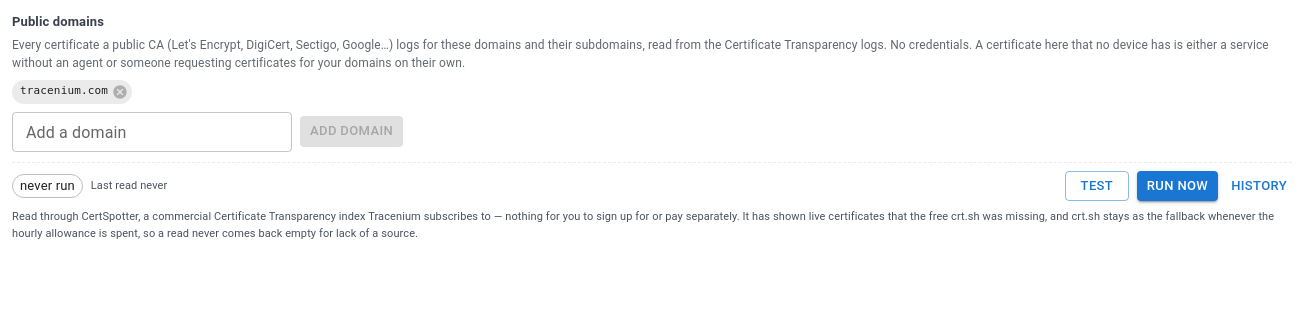
Scenario: CdpPublicDomains › «Test» pregunta a crt.sh sin importar nada, y un fallo se lee
What coordinates should you click on to do the following:
click the button "Test"
I would click on:
 (1097, 186)
Its box is [1065, 170, 1129, 201].
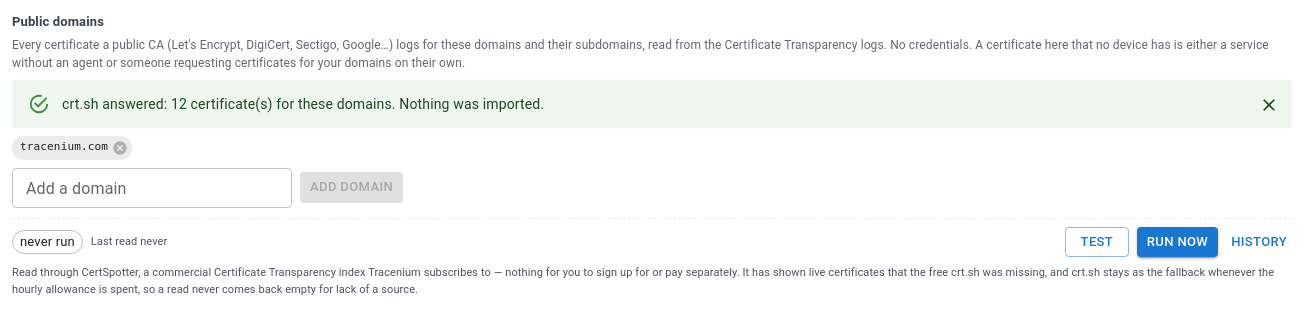
Check: the text "Nothing was imported" is shown, box [62, 96, 544, 112]
What coordinates should you click on to do the following:
click the button "Test"
I would click on:
 (1097, 242)
Its box is [1065, 226, 1129, 257].
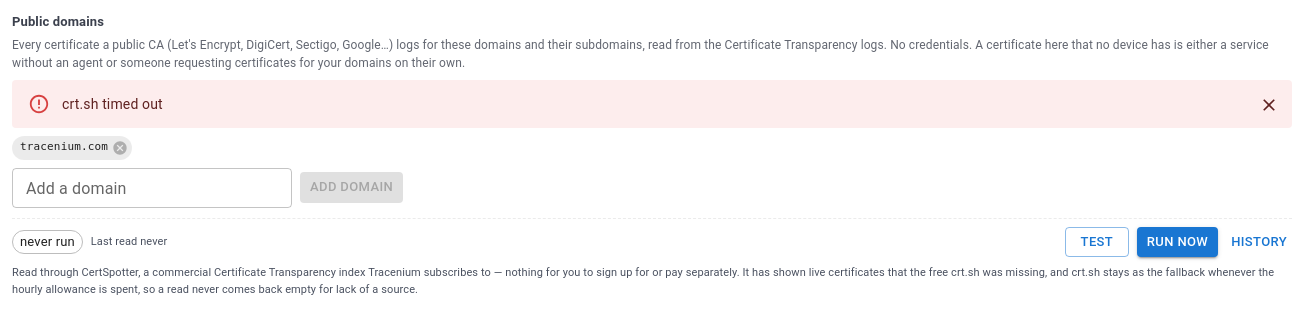
Check: the text "crt.sh timed out" is shown, box [62, 96, 163, 112]
